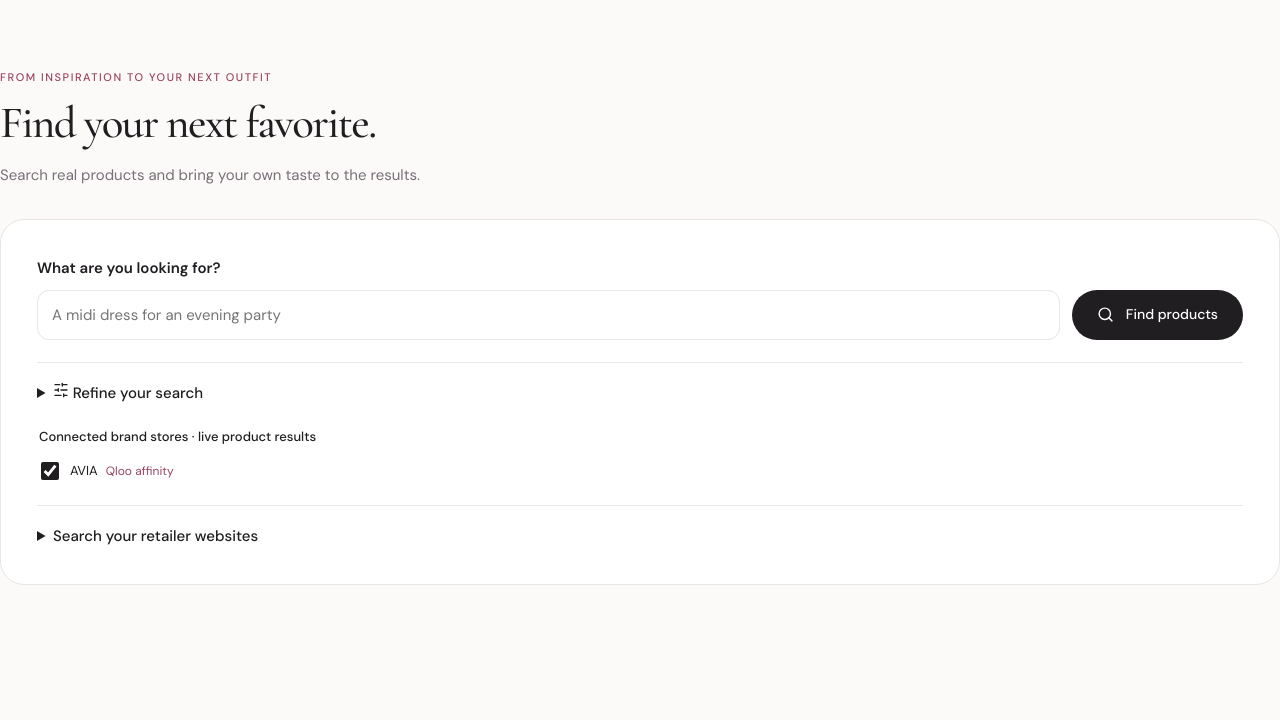
shows an honest empty state and external-only searches without fake cards
This screenshot has width=1280, height=720.
Expected: the checkbox labelled "AVIA Qloo affinity" is shown, [41,462,59,480]
Type "A cream dress under ₹5,000 size M" into the field labelled "What are you looking for?" at (548, 315), box [37,290,1060,340]
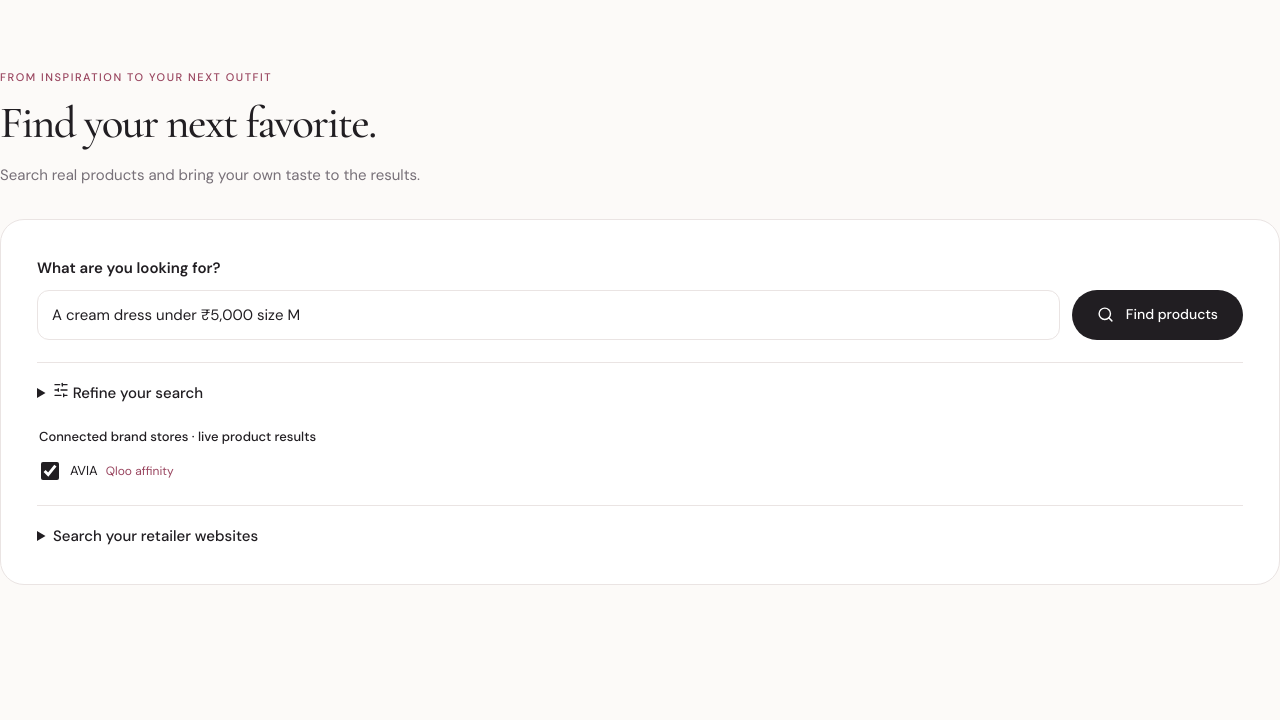
Click the button "Find products" at (1157, 315), box [1072,290,1243,340]
(page scrolled)
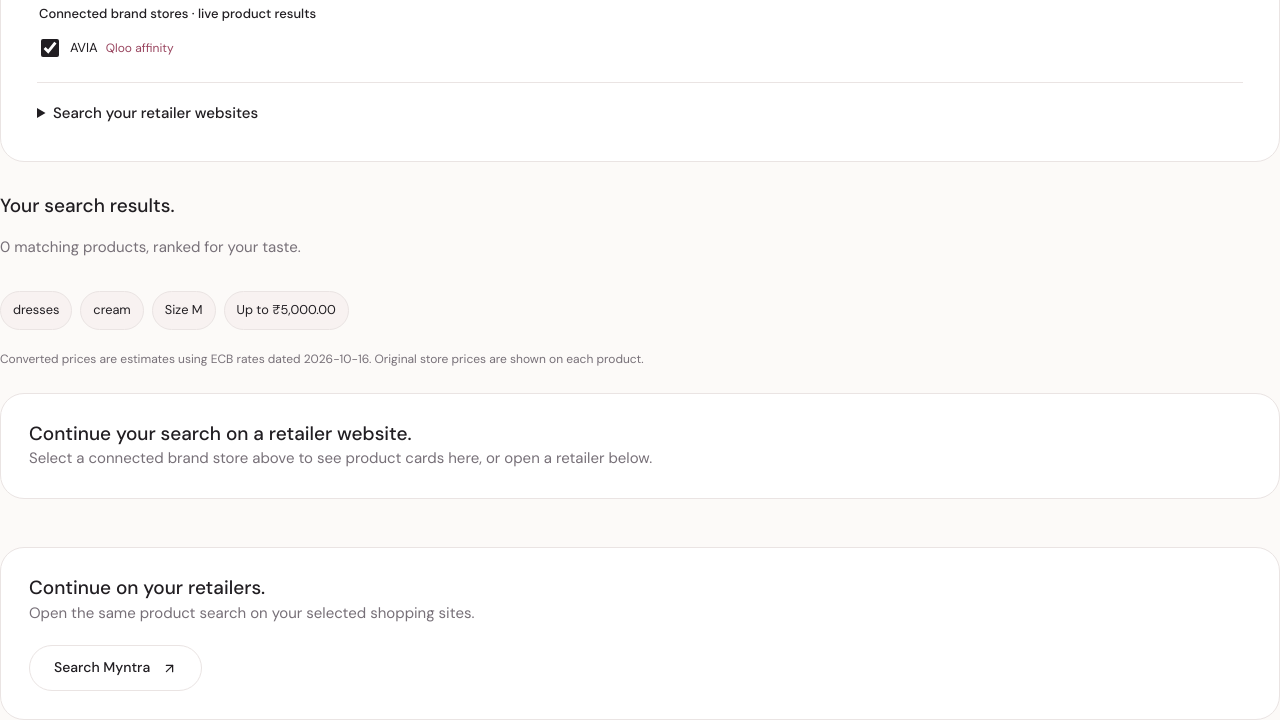
Now the heading "Continue your search on a retailer website." is shown, box [29,421,412,446]
Now the link "Search Myntra" is shown, box [29,645,202,691]
